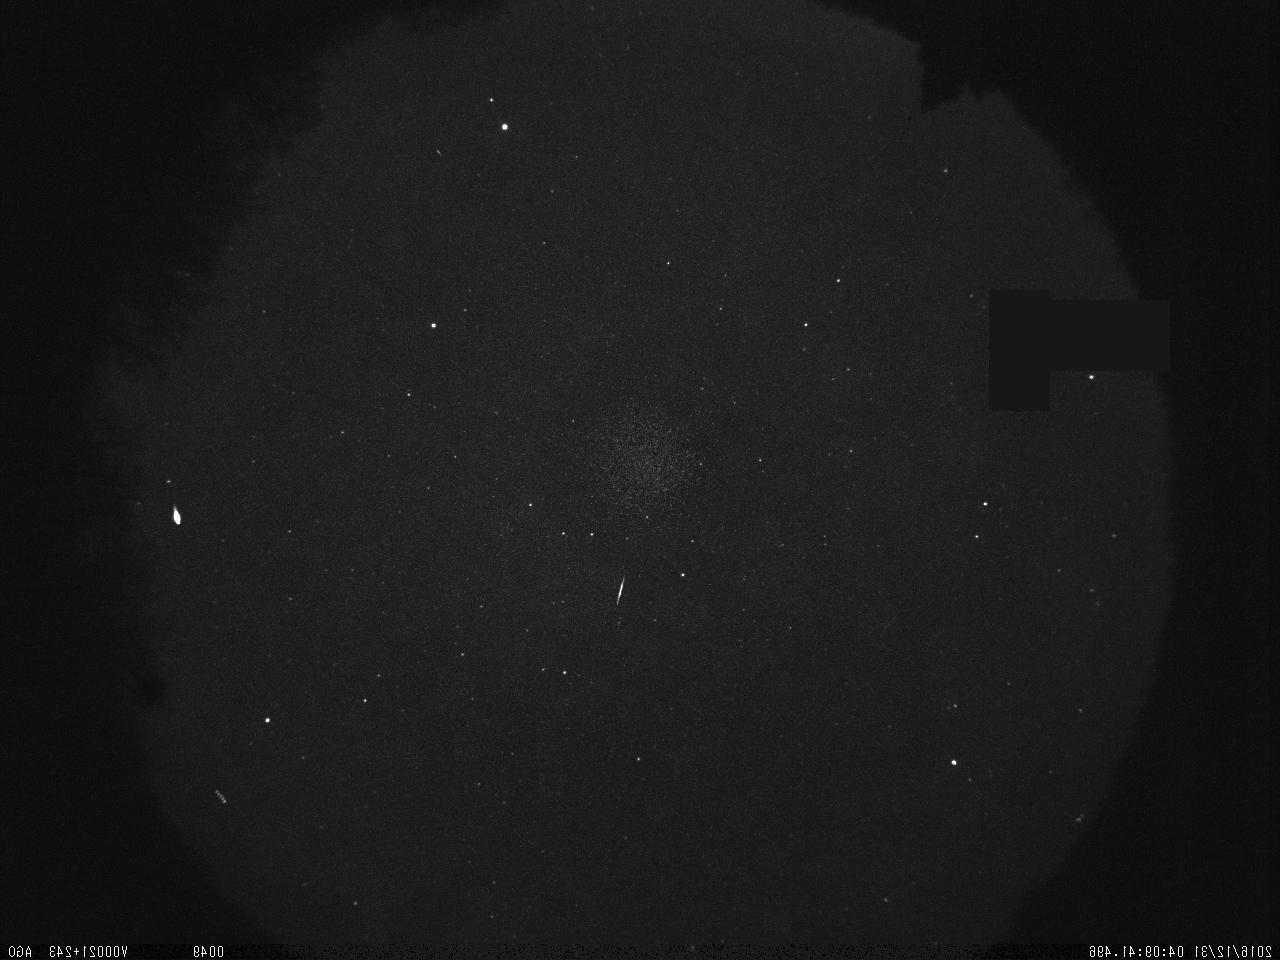meteor: (604, 569, 631, 614)
